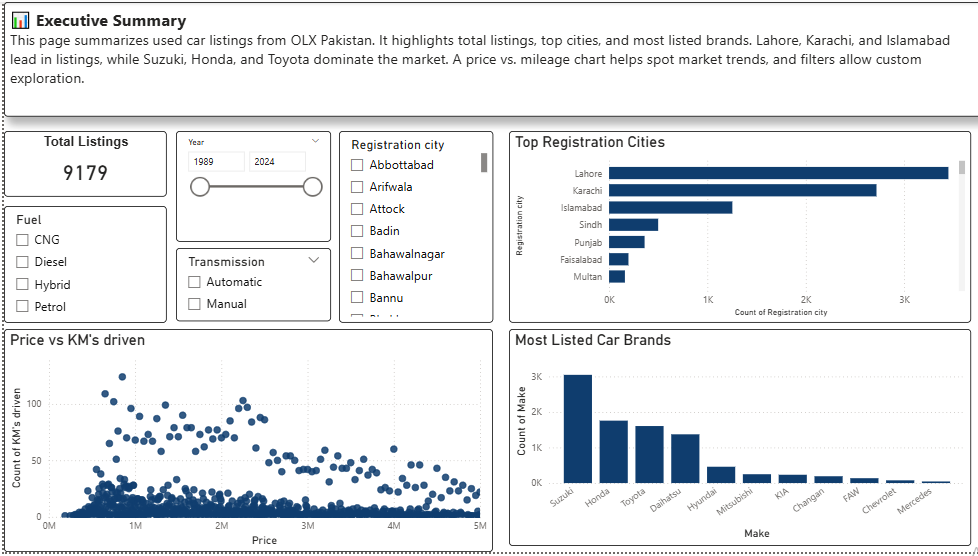

Layout of this report page (visuals, bound fields, positions):
{"tool":"powerbi","page":{"name":"EXECUTIVE SUMMARY","canvas":[1280,720],"ordinal":0},"visuals":[{"type":"card","title":"Total Listings ","fields":{"Values":["CountNonNull(OLX_cars_dataset00.Ad ID)"]},"box":[0,168.5,213.1,86.4],"z":0},{"type":"columnChart","title":"Most Listed Car Brands","fields":{"Category":["OLX_cars_dataset00.Make"],"Y":["CountNonNull(OLX_cars_dataset00.Make)"]},"box":[661,427.7,604.8,283.7],"z":1000},{"type":"scatterChart","title":"Price vs KM''s driven ","fields":{"Y":["CountNonNull(OLX_cars_dataset00.KM's driven)"],"X":["OLX_cars_dataset00.Price"]},"box":[0,428.1,640.1,291.9],"z":2000},{"type":"clusteredBarChart","title":"Top Registration Cities","fields":{"Y":["CountNonNull(OLX_cars_dataset00.Registration city)"],"Category":["OLX_cars_dataset00.Registration city"]},"box":[661,168.5,604.8,250.6],"z":3000},{"type":"slicer","fields":{"Values":["OLX_cars_dataset00.Year"]},"box":[224.6,168.5,203,145.4],"z":4000},{"type":"slicer","fields":{"Values":["OLX_cars_dataset00.Registration city"]},"box":[439.2,168.5,201.6,250.6],"z":5000},{"type":"slicer","fields":{"Values":["OLX_cars_dataset00.Fuel"]},"box":[0,266.4,213.1,152.6],"z":6000},{"type":"textbox","box":[0,0,1280.2,149.8],"z":7000},{"type":"slicer","fields":{"Values":["OLX_cars_dataset00.Transmission"]},"box":[224.6,322.6,203,96.5],"z":8000}]}

Visuals, with their boxes in screenshot pixels (x1, y1, x2, y2), scaled from the page's 1280x720 canvas onto the 978x556 screenshot:
"Total Listings " card: box=[0, 130, 163, 197]
"Most Listed Car Brands" columnChart: box=[505, 330, 967, 549]
"Price vs KM''s driven " scatterChart: box=[0, 331, 489, 555]
"Top Registration Cities" clusteredBarChart: box=[505, 130, 967, 324]
slicer - OLX_cars_dataset00.Year: box=[172, 130, 327, 242]
slicer - OLX_cars_dataset00.Registration city: box=[336, 130, 490, 324]
slicer - OLX_cars_dataset00.Fuel: box=[0, 206, 163, 324]
textbox: box=[0, 0, 977, 116]
slicer - OLX_cars_dataset00.Transmission: box=[172, 249, 327, 324]
